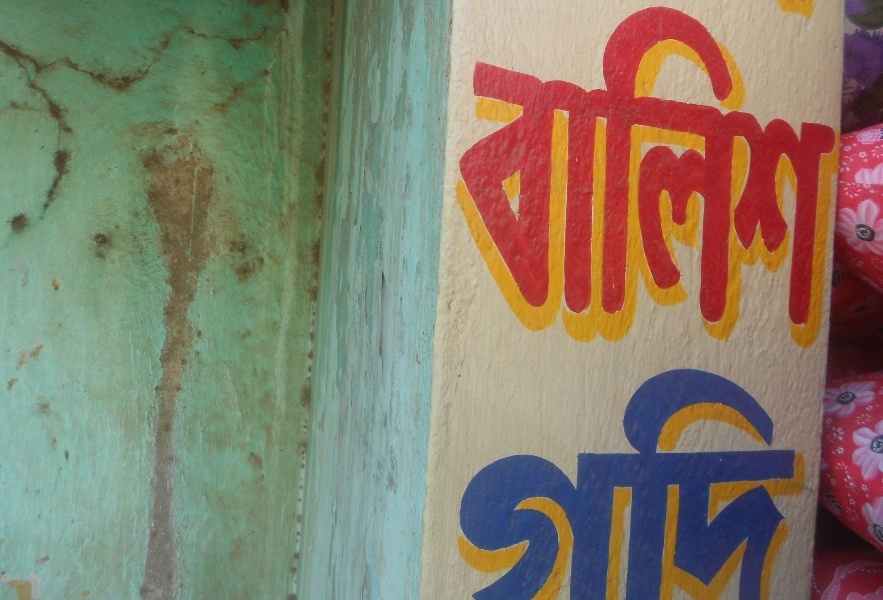text: (481, 1, 496, 372), (497, 1, 512, 372), (513, 1, 528, 372), (529, 1, 544, 372), (545, 1, 560, 372), (561, 1, 576, 372), (577, 1, 592, 372), (593, 1, 608, 372), (609, 1, 624, 372), (625, 1, 640, 372), (641, 1, 656, 372), (657, 1, 672, 372), (673, 1, 688, 372), (689, 1, 704, 372), (705, 1, 720, 372), (721, 1, 736, 372), (737, 1, 752, 372), (753, 1, 768, 372), (769, 1, 784, 372), (785, 1, 800, 372), (801, 1, 816, 372), (817, 1, 832, 372), (833, 1, 848, 372), (469, 1, 480, 372), (481, 363, 496, 600), (497, 363, 512, 600), (513, 363, 528, 600), (529, 363, 544, 600), (545, 363, 560, 600), (561, 363, 576, 600), (577, 363, 592, 600), (593, 363, 608, 600), (609, 363, 624, 600), (625, 363, 640, 600), (641, 363, 656, 600), (657, 363, 672, 600), (673, 363, 688, 600), (689, 363, 704, 600), (705, 363, 720, 600), (721, 363, 736, 600), (737, 363, 752, 600), (753, 363, 768, 600), (769, 363, 784, 600), (785, 363, 800, 600), (801, 363, 816, 600), (466, 363, 480, 600), (817, 363, 821, 600), (849, 1, 851, 372)
